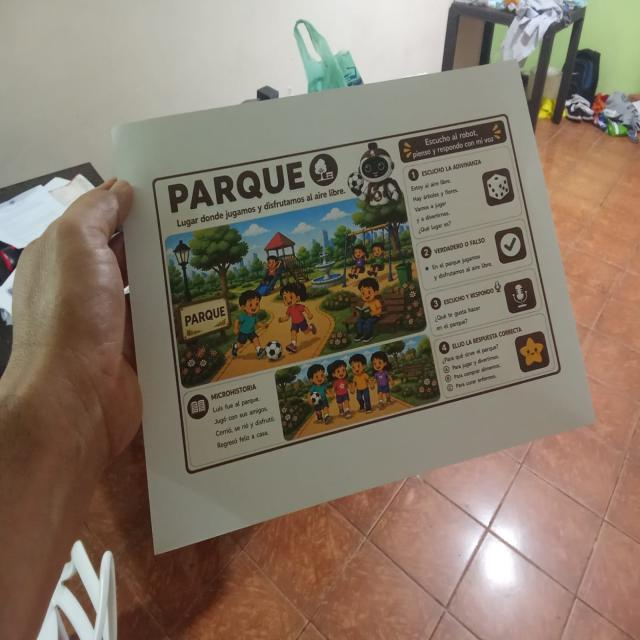parque: (147, 108, 565, 481)
